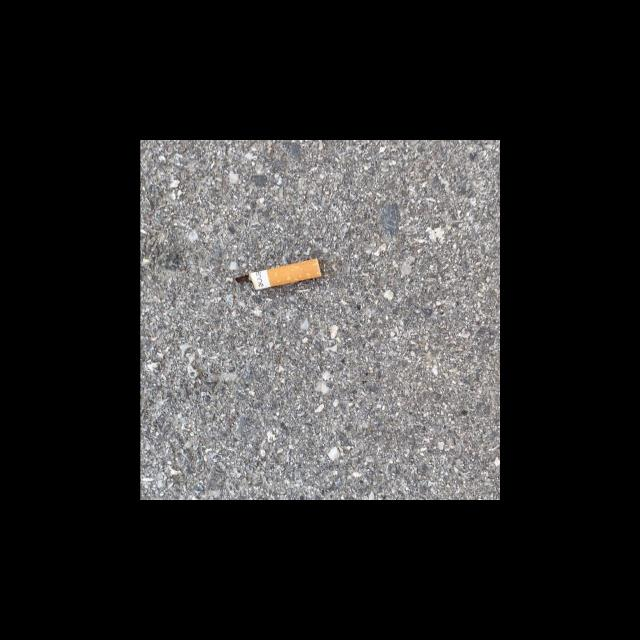cigarette: (234, 258, 322, 290)
